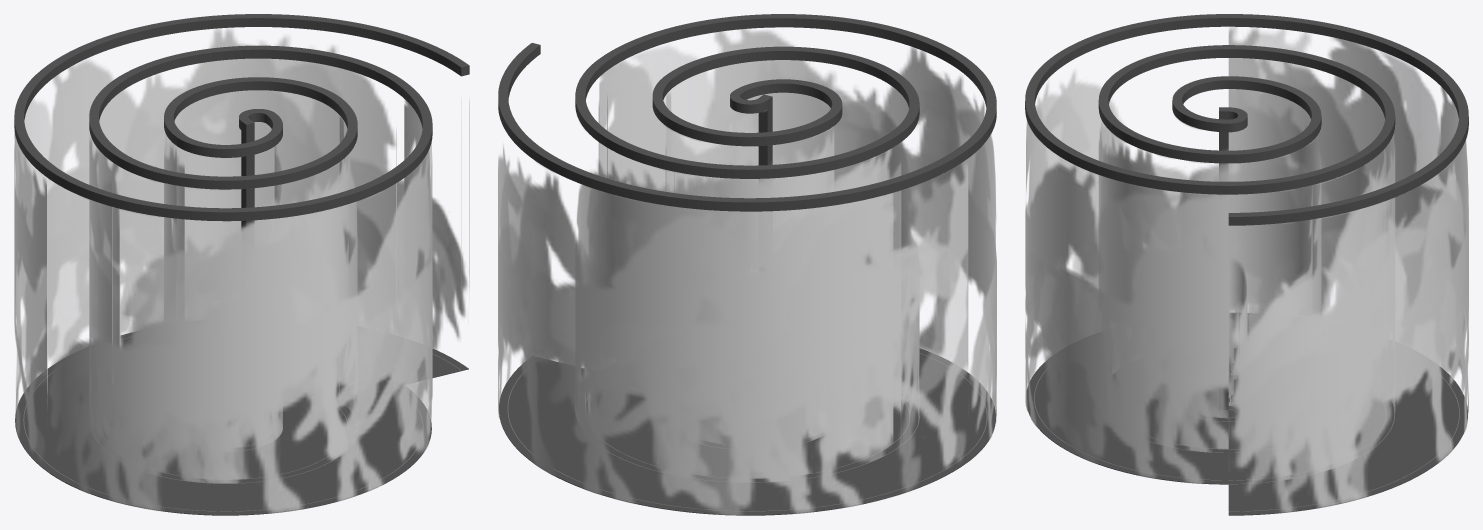
Rendered from project1.glb.
3 renders of one model, left to right at view 1: azimuth 30°, elevation 25°; view 2: azimuth 150°, elevation 25°; view 3: azimuth 270°, elevation 25°, orthographic. The views are drawn at different scales.
Visible parts, largest first — view 1: Fal - 222; view 2: Fal - 222; view 3: Fal - 222.
Boxes of the visible parts, x1,y1,x2,y2 form: Fal - 222: [14, 14, 469, 515]; Fal - 222: [498, 14, 996, 515]; Fal - 222: [1025, 14, 1468, 515].
Size of the model in its own units: 7.5 by 5.15 by 6.93.
Materials: 3 (1 with a texture image).
